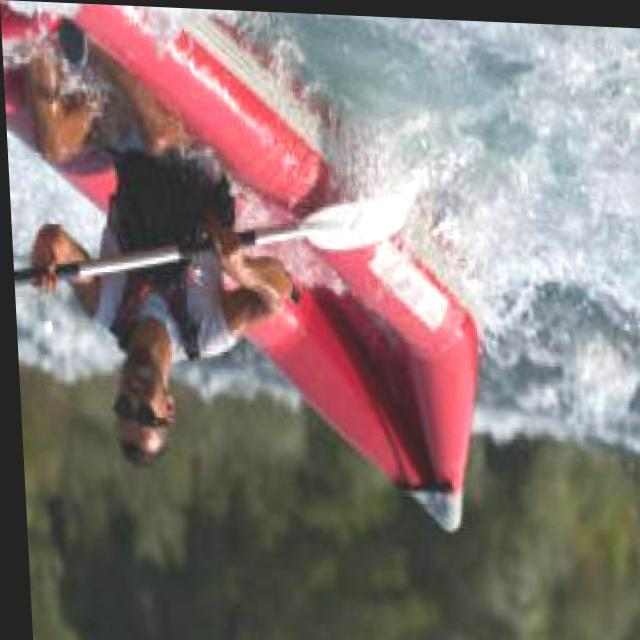kayak: (0, 2, 474, 527)
